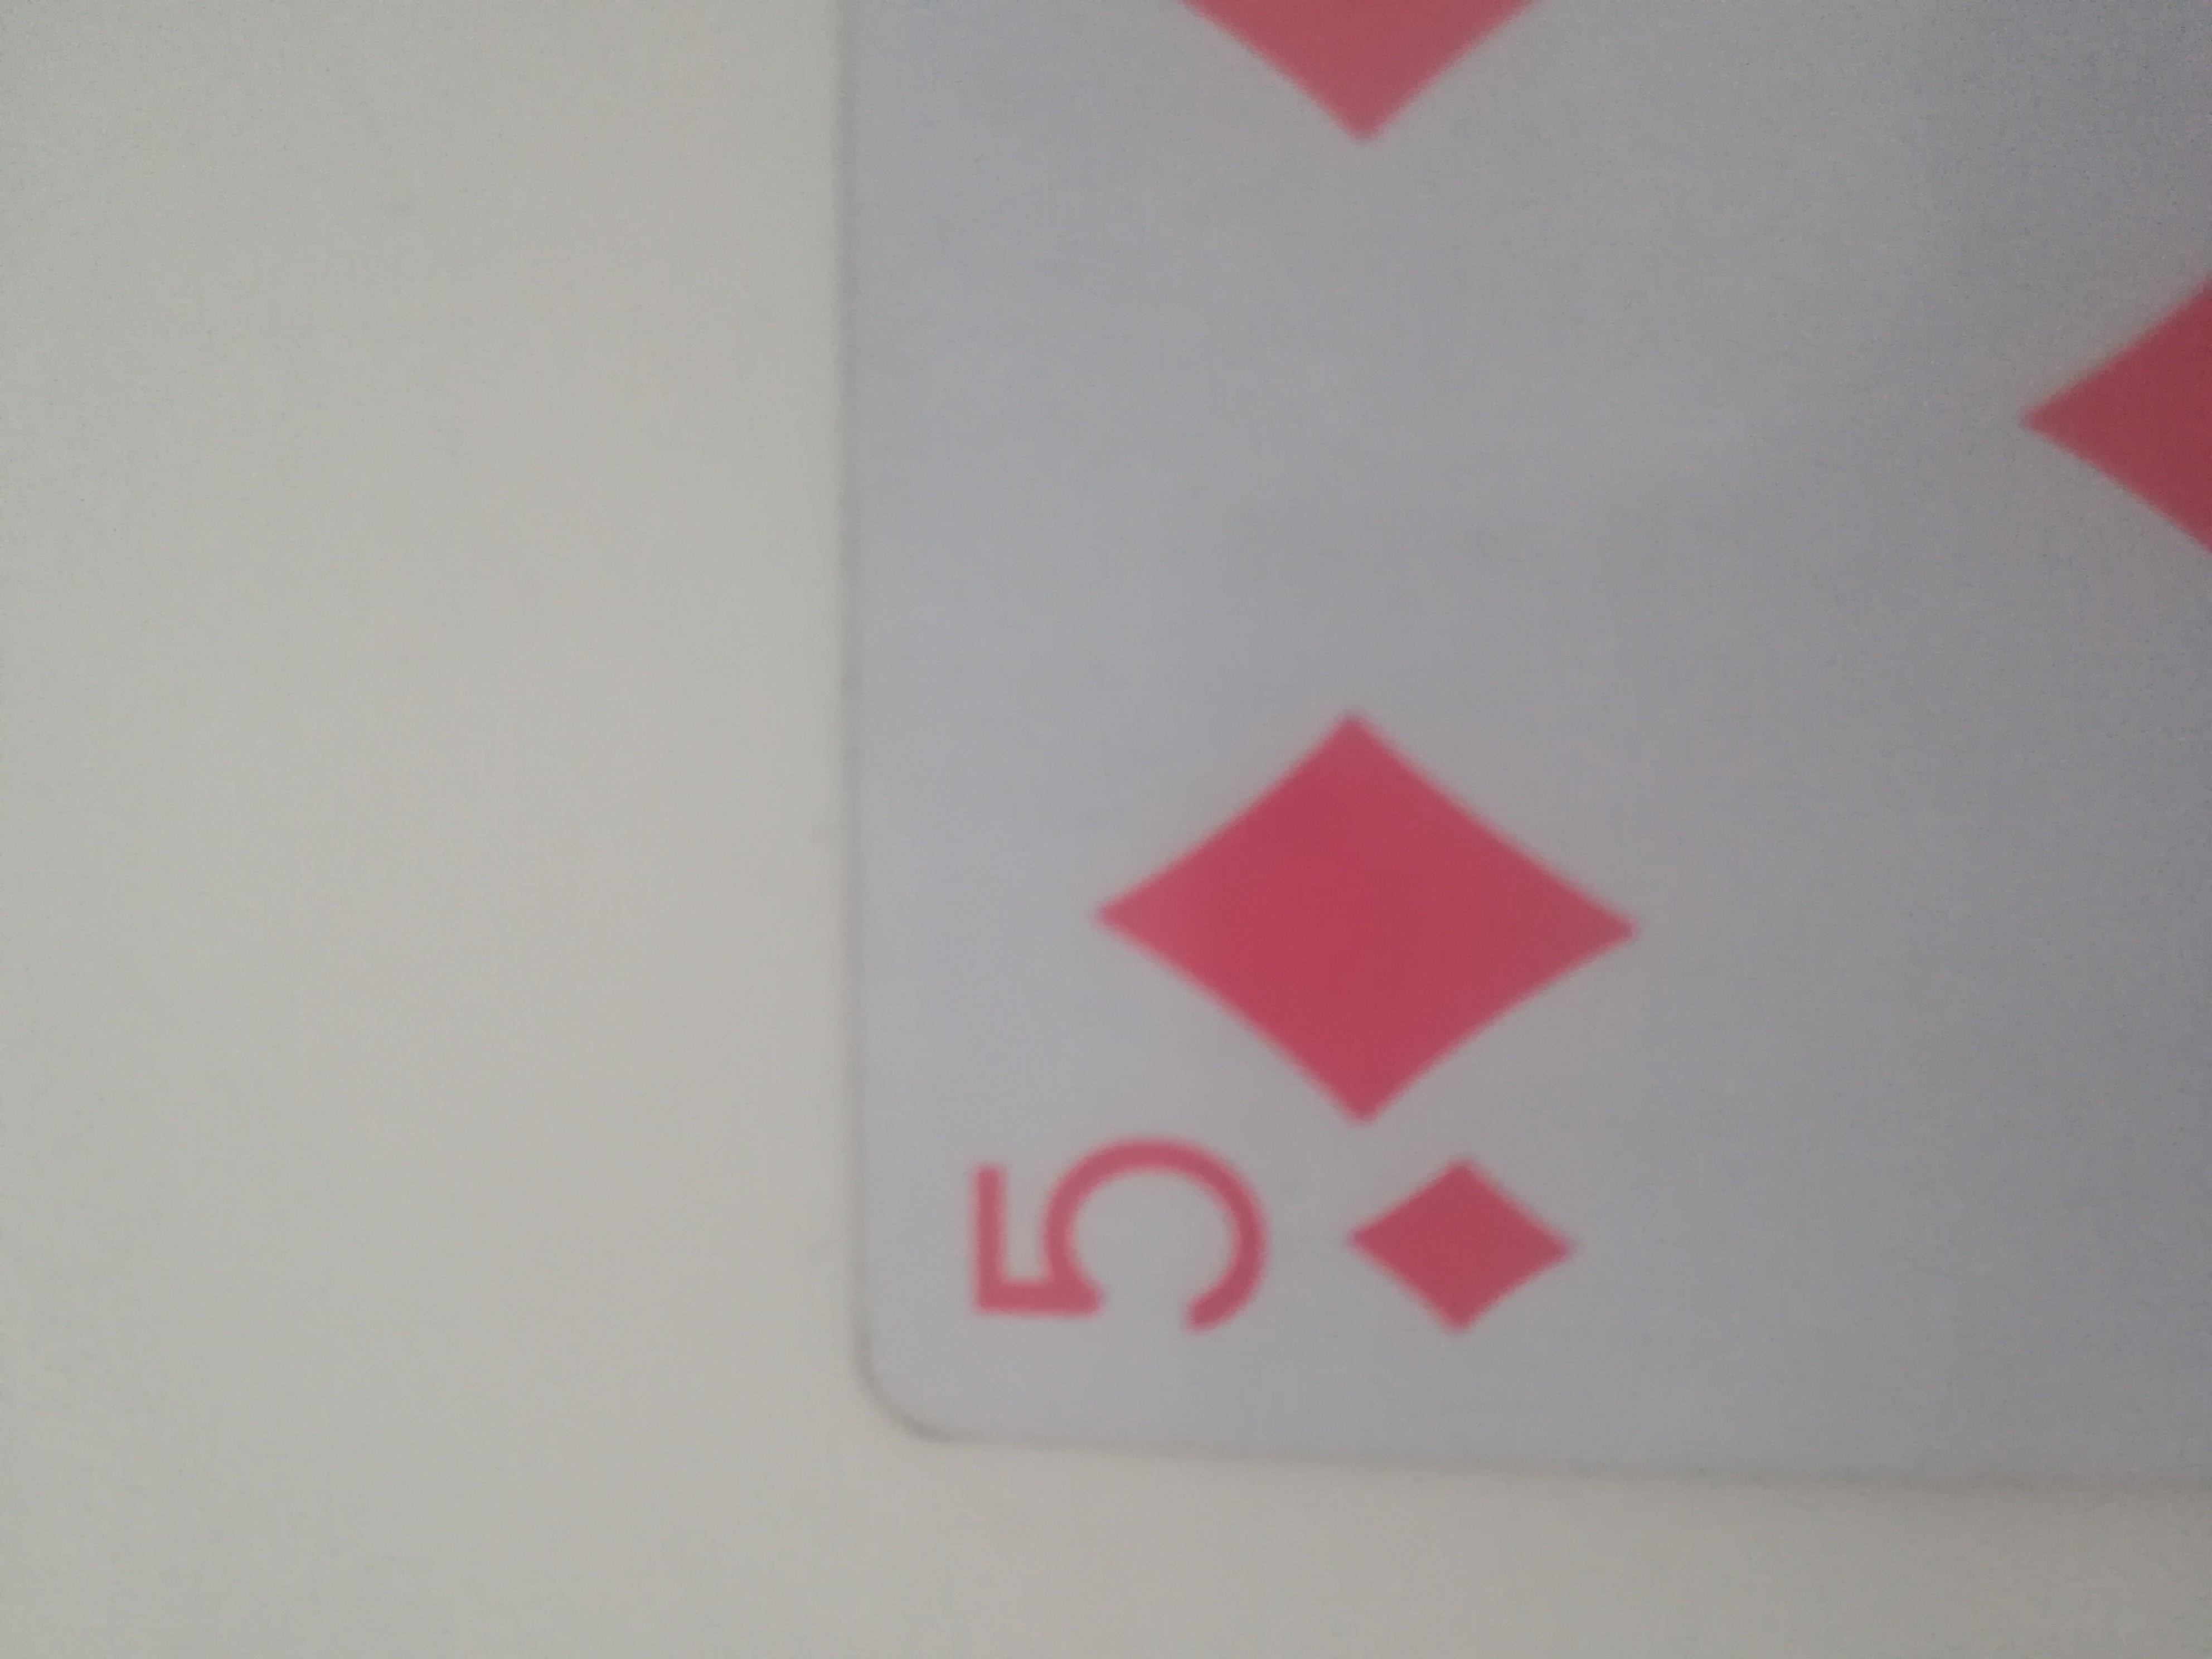5D: (857, 0, 2212, 1466)
